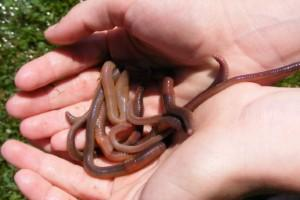earthworms: (37, 20, 279, 184)
